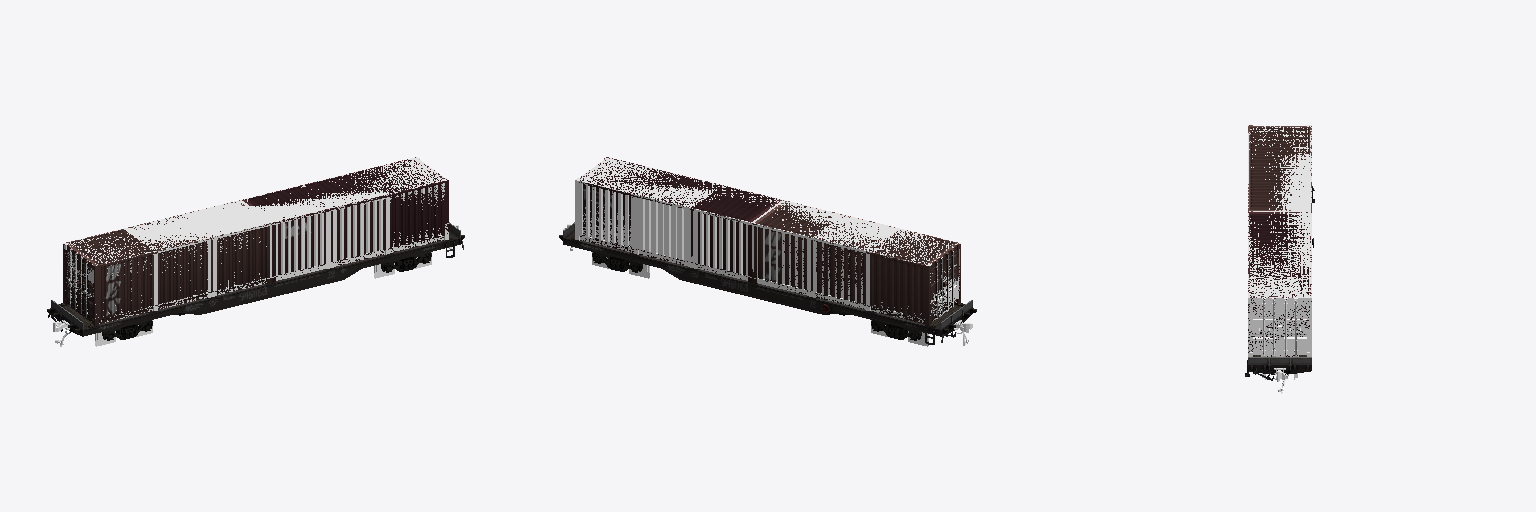
The picture shows the model from 3 angles: view 1: azimuth 30°, elevation 25°; view 2: azimuth 150°, elevation 25°; view 3: azimuth 270°, elevation 25°; orthographic projection.
Parts seen in each view (by area): view 1: CARGO_FILL_2, CARGO_FILL_51, CARGO_FILL_3, FRAME_fitflat, CARGO_FILL_1, CARGO_FILL_90, CARGO_FILL_50, BOGEY_REAR_fitflat, BOGEY_FRONT_fitflat; view 2: CARGO_FILL_2, CARGO_FILL_3, CARGO_FILL_1, CARGO_FILL_51, FRAME_fitflat, CARGO_FILL_50, CARGO_FILL_90, BOGEY_REAR_fitflat, BOGEY_FRONT_fitflat; view 3: CARGO_FILL_1, CARGO_FILL_2, CARGO_FILL_51, CARGO_FILL_3, FRAME_fitflat.
Part boxes in pixels (bbox=[...]): CARGO_FILL_2: bbox=[63, 200, 271, 325]; CARGO_FILL_51: bbox=[242, 157, 448, 282]; CARGO_FILL_3: bbox=[124, 171, 389, 310]; FRAME_fitflat: bbox=[47, 222, 464, 336]; CARGO_FILL_1: bbox=[302, 157, 448, 267]; CARGO_FILL_90: bbox=[181, 186, 330, 296]; CARGO_FILL_50: bbox=[63, 215, 212, 323]; BOGEY_REAR_fitflat: bbox=[381, 252, 431, 272]; BOGEY_FRONT_fitflat: bbox=[102, 320, 152, 340]; CARGO_FILL_2: bbox=[752, 200, 960, 325]; CARGO_FILL_3: bbox=[634, 173, 899, 310]; CARGO_FILL_1: bbox=[575, 158, 719, 267]; CARGO_FILL_51: bbox=[579, 157, 781, 282]; FRAME_fitflat: bbox=[559, 222, 976, 344]; CARGO_FILL_50: bbox=[811, 215, 960, 322]; CARGO_FILL_90: bbox=[693, 190, 837, 296]; BOGEY_REAR_fitflat: bbox=[592, 252, 642, 272]; BOGEY_FRONT_fitflat: bbox=[871, 320, 921, 340]; CARGO_FILL_1: bbox=[1248, 240, 1311, 356]; CARGO_FILL_2: bbox=[1248, 125, 1311, 211]; CARGO_FILL_51: bbox=[1248, 212, 1311, 356]; CARGO_FILL_3: bbox=[1248, 154, 1311, 268]; FRAME_fitflat: bbox=[1245, 186, 1314, 381].
Bounding box in the file's own units: 23.13 × 4.84 × 3.5.
5 materials, 2 textured.